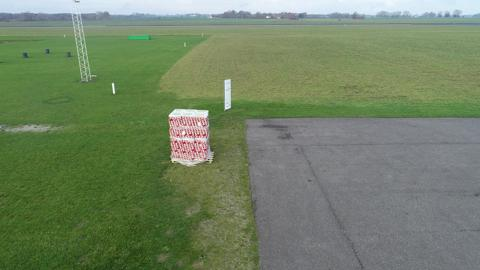RockwoolPallet: (168, 108, 212, 164)
